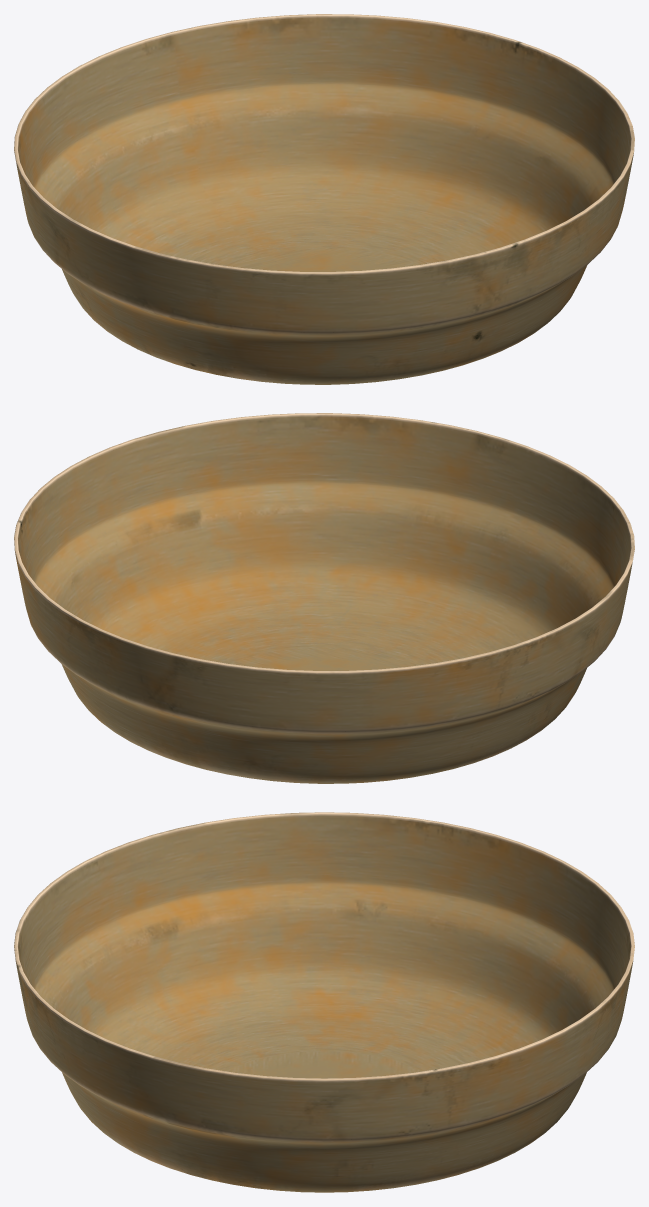
File: SM_LargeBowl150_B.fbx
The picture shows the model from 3 angles, top to bottom: view 1: azimuth 30°, elevation 25°; view 2: azimuth 150°, elevation 25°; view 3: azimuth 270°, elevation 25°; orthographic projection.
Parts seen in each view (by area): view 1: SM_LargeBowl150_B; view 2: SM_LargeBowl150_B; view 3: SM_LargeBowl150_B.
Part boxes in pixels (x1,y1,x2,y2): SM_LargeBowl150_B: (14, 14, 634, 384); SM_LargeBowl150_B: (14, 413, 634, 783); SM_LargeBowl150_B: (14, 812, 634, 1192).
Bounding box in the file's own units: 29.27 × 9.29 × 28.66.
1 material, 1 textured.
